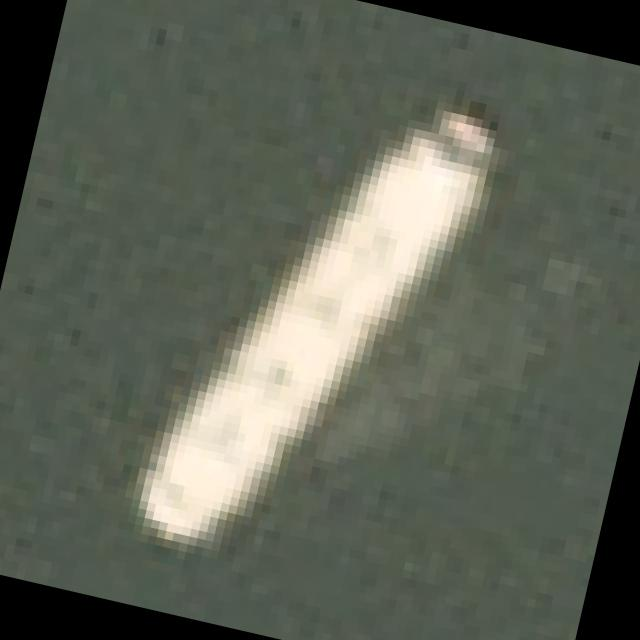ship: (72, 9, 552, 628)
